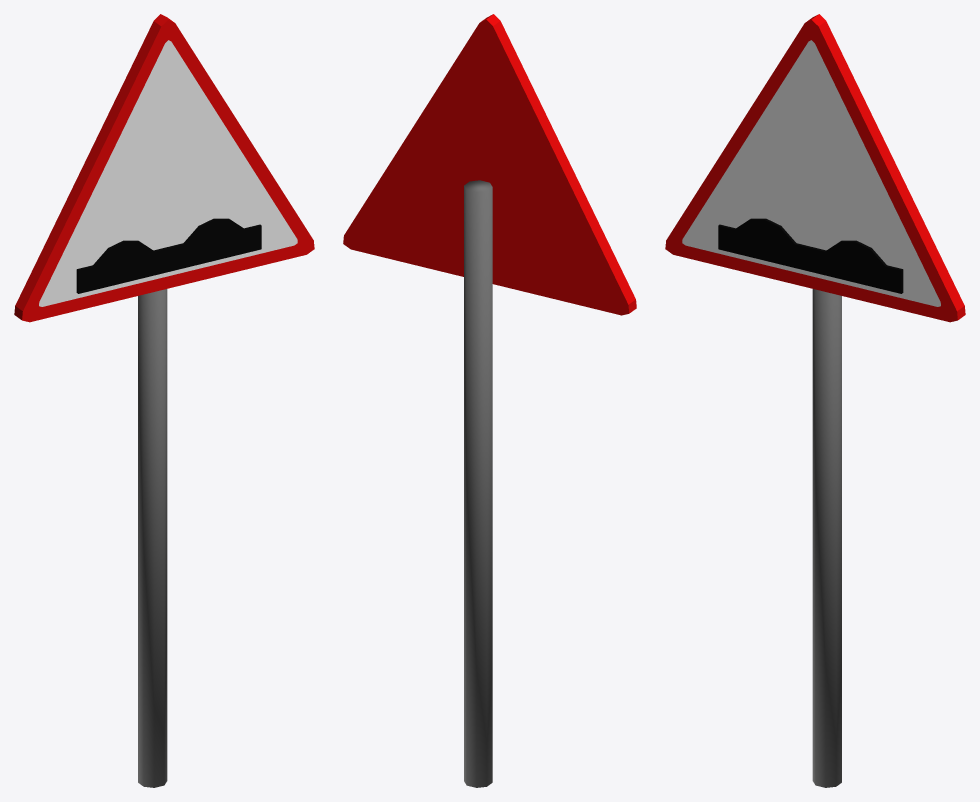
File: Prop_StreetSign_MiniBumps.fbx
3 views of the same model, side by side, from view 1: azimuth 30°, elevation 25°; view 2: azimuth 150°, elevation 25°; view 3: azimuth 330°, elevation 25° (orthographic). The views are drawn at different scales.
Parts seen in each view (by area): view 1: Prop_StreetSign_MiniBumps; view 2: Prop_StreetSign_MiniBumps; view 3: Prop_StreetSign_MiniBumps.
Boxes of the visible parts, x1,y1,x2,y2 form: Prop_StreetSign_MiniBumps: (14, 14, 314, 787); Prop_StreetSign_MiniBumps: (343, 14, 636, 787); Prop_StreetSign_MiniBumps: (665, 14, 965, 787).
Bounding box in the file's own units: 166 × 420 × 23.95.
